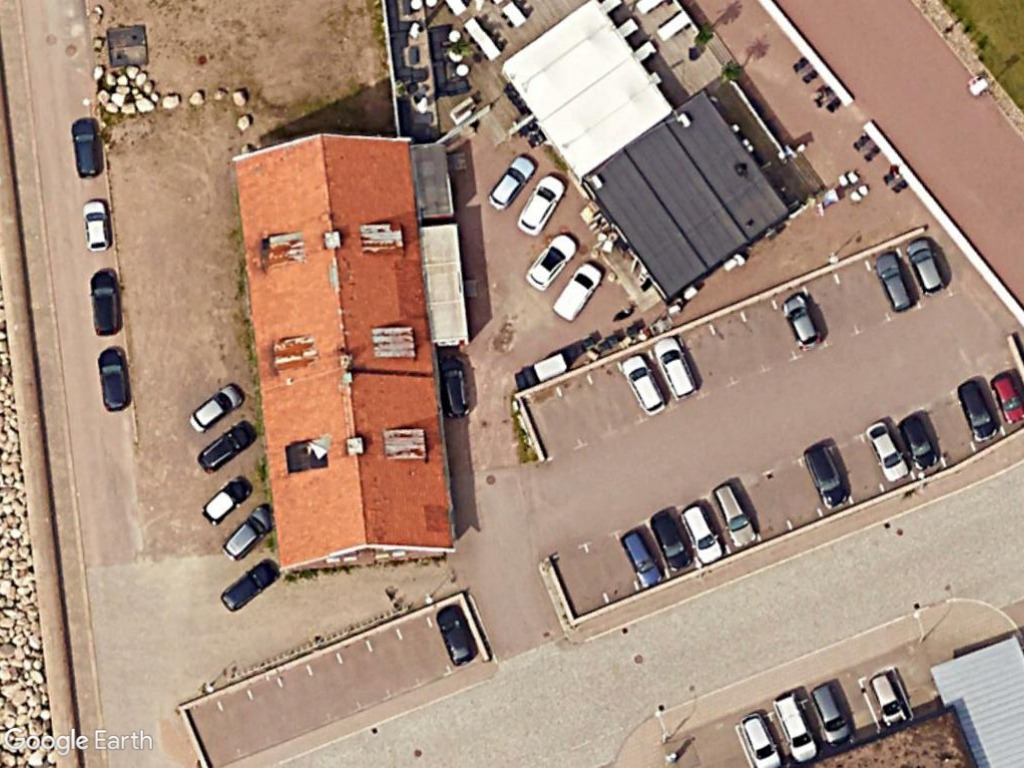car: (195, 415, 258, 477), (217, 555, 286, 611), (770, 690, 822, 764), (523, 228, 581, 294), (615, 350, 671, 418), (712, 476, 763, 550), (220, 500, 278, 564), (649, 334, 701, 403), (516, 168, 568, 236), (802, 441, 851, 513), (646, 506, 698, 573), (868, 246, 919, 313), (677, 499, 728, 565), (188, 376, 245, 435), (809, 678, 857, 748), (954, 376, 1003, 444), (863, 417, 914, 482), (198, 472, 257, 528), (485, 153, 539, 214), (896, 409, 945, 472), (435, 601, 479, 669), (616, 528, 664, 590), (866, 667, 912, 731), (96, 343, 135, 416), (737, 710, 786, 768), (778, 291, 825, 351), (904, 234, 947, 299), (88, 266, 125, 340), (71, 114, 106, 182), (985, 368, 1024, 429), (79, 195, 115, 254)
van: (551, 259, 606, 324)
